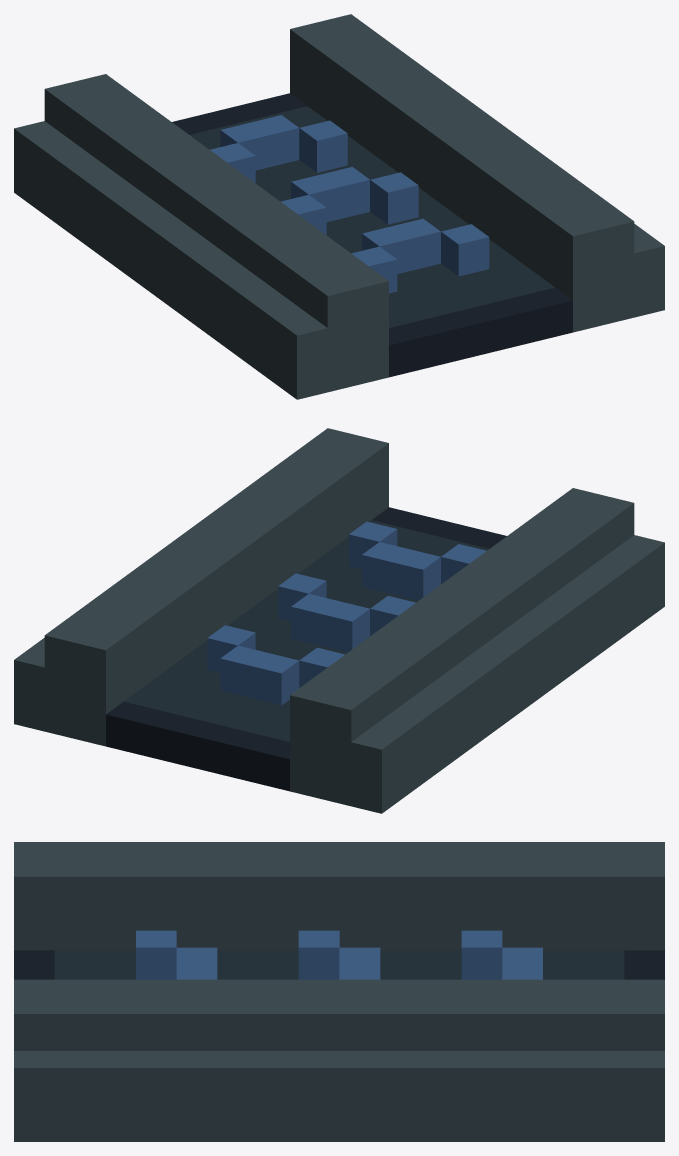
Rendered from ConveyorStraight.obj.
3 renders of one model, top to bottom at view 1: azimuth 30°, elevation 25°; view 2: azimuth 150°, elevation 25°; view 3: azimuth 270°, elevation 25°, orthographic. The views are drawn at different scales.
Size of the model in its own units: 1.2 by 0.3 by 1.6.
Materials: 1 (1 with a texture image).
